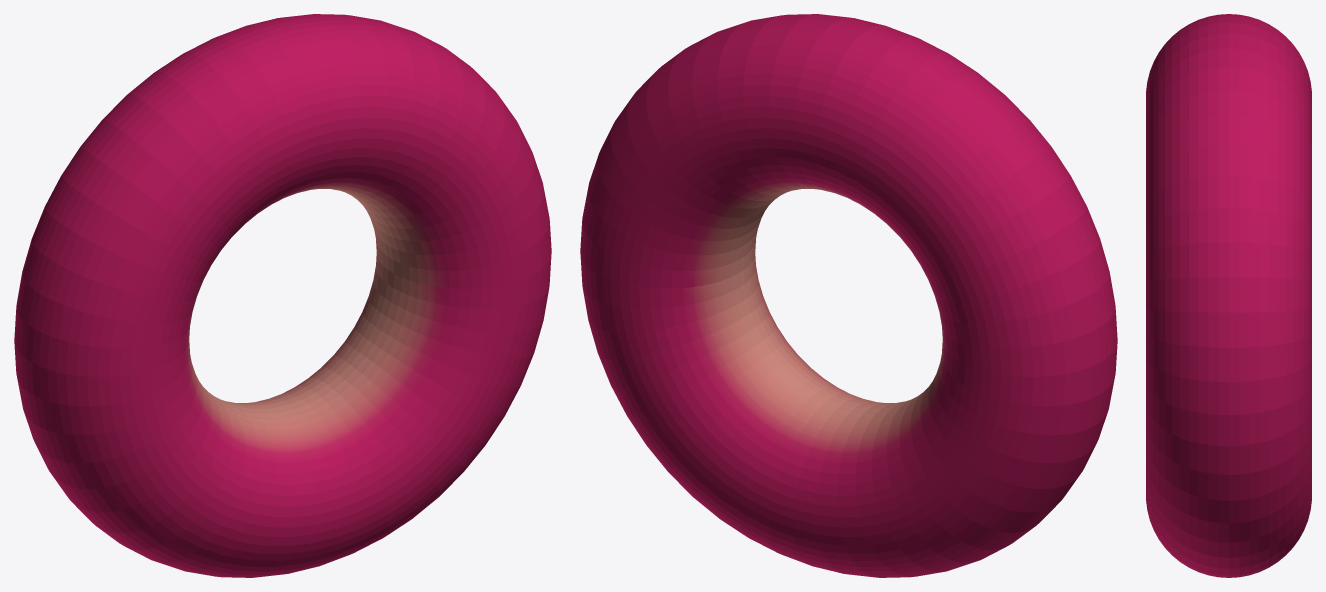
3 views of the same model, side by side, from view 1: azimuth 30°, elevation 25°; view 2: azimuth 150°, elevation 25°; view 3: azimuth 270°, elevation 25° (orthographic). The views are drawn at different scales.
Visible parts, largest first — view 1: world; view 2: world; view 3: world.
Boxes of the visible parts, x1,y1,x2,y2 form: world: [14, 14, 551, 577]; world: [580, 14, 1117, 577]; world: [1146, 14, 1311, 577].
Size of the model in its own units: 31.2 by 31.14 by 9.18.
